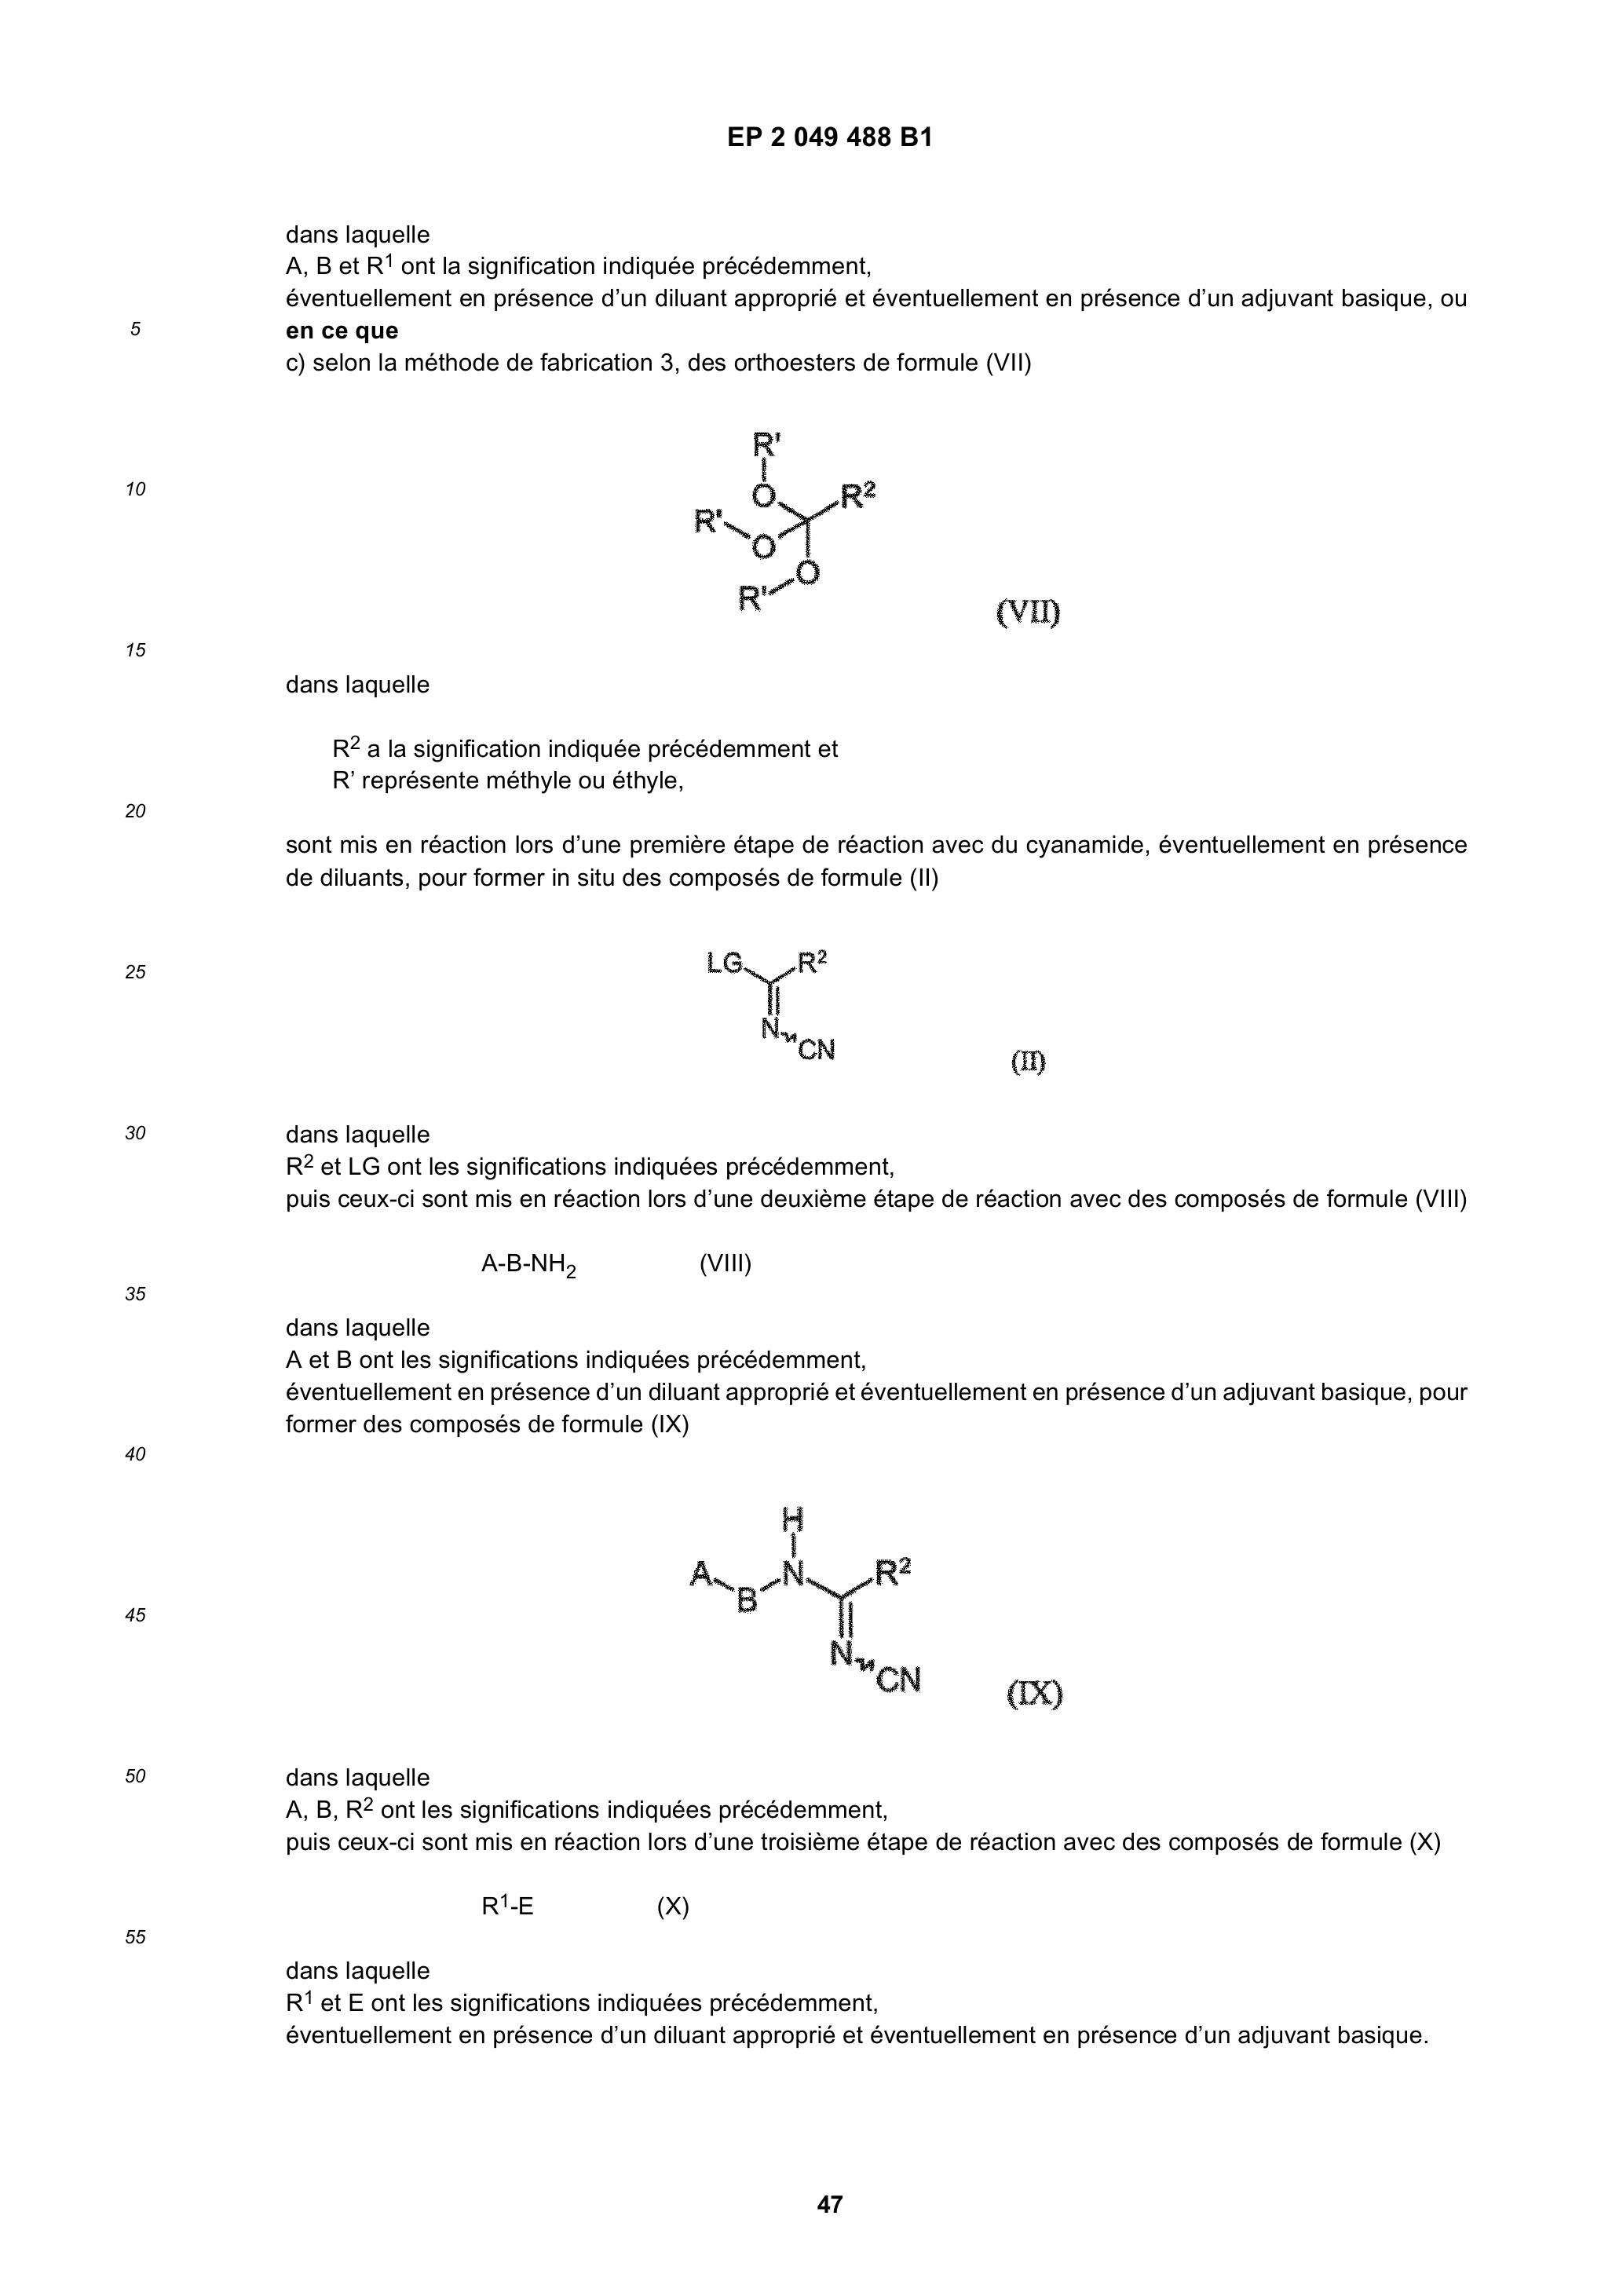markush-structures: (666, 1481, 977, 1750), (680, 402, 903, 639), (685, 935, 891, 1077)
